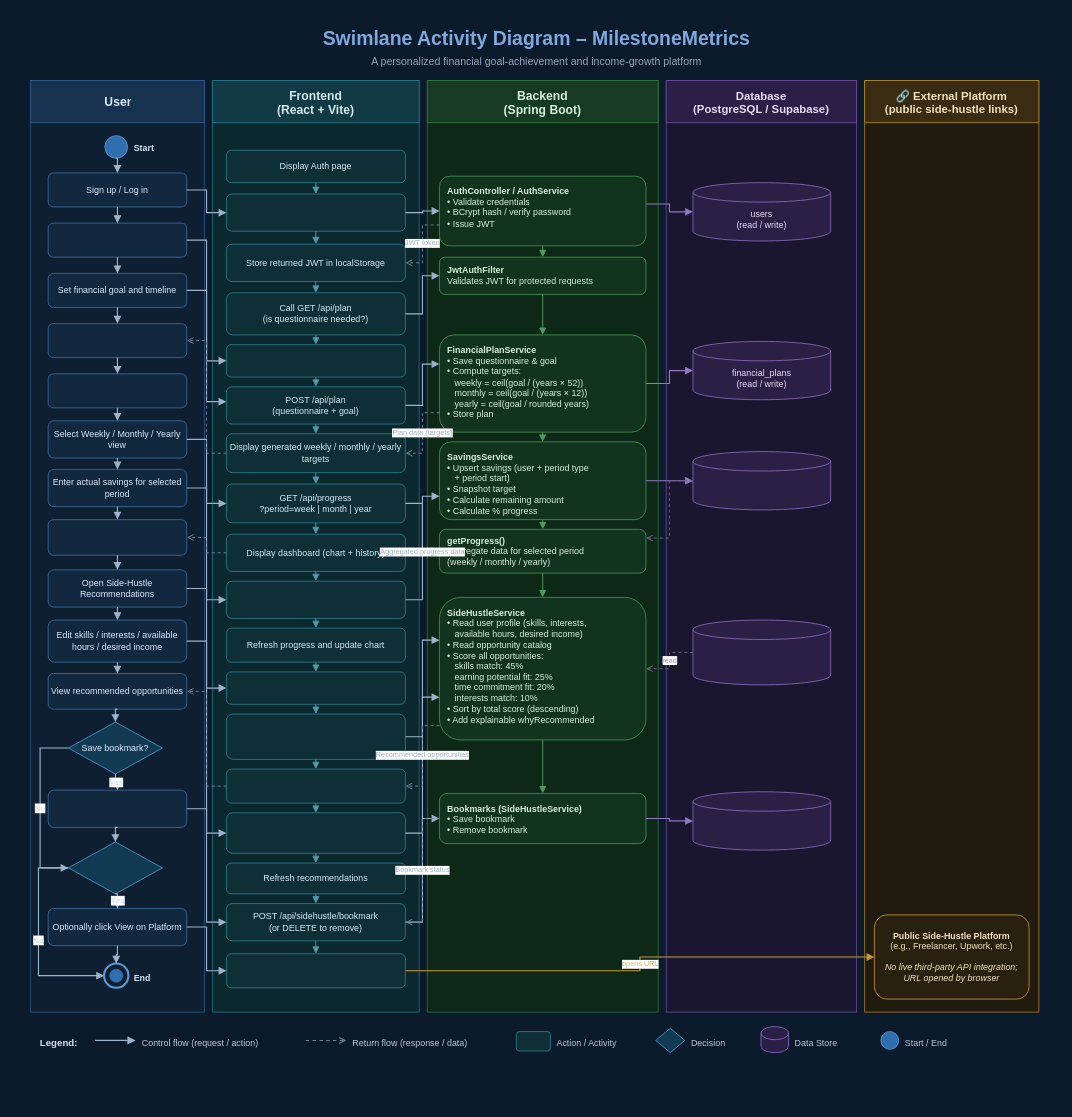
This 1072x1117 diagram has some shape labels left out. The shapes that lost their labels are listed below. From the top down, each one's centre as x and y in pixels, then its label:
At point (315, 212): "Send signup / login credentials".
At point (117, 239): "Enter financial questionnaire".
At point (117, 340): "View personalized plan".
At point (315, 360): "Display Questionnaire".
At point (117, 390): "View dashboard".
At point (761, 480): "savings_records (read / write)".
At point (117, 537): "View target-vs-actual progress".
At point (315, 599): "POST /api/savings (period + amount)".
At point (761, 652): "side_hustle_opportunities (read only – seeded)".
At point (315, 687): "Display SideHustle page".
At point (315, 736): "GET /api/sidehustle/profile GET /api/sidehustle/recommendations (with filters)".
At point (315, 785): "Display ranked cards and filters".
At point (117, 808): "Optionally bookmark an opportunity".
At point (761, 820): "side_hustle_bookmarks (read / write)".
At point (315, 832): "PUT /api/sidehustle/profile (edited skills / interests / hours / income)".
At point (115, 867): "Open platform?".
At point (315, 970): "Open platform URL in browser".
